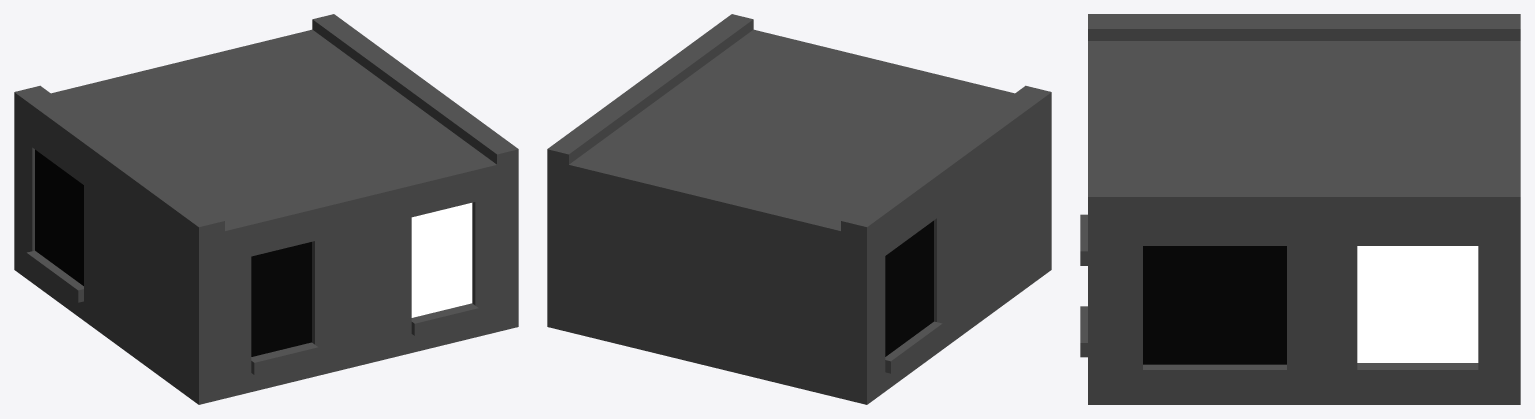
Rendered from immeuble4Milieu1.fbx.
3 renders of one model, left to right at view 1: azimuth 30°, elevation 25°; view 2: azimuth 150°, elevation 25°; view 3: azimuth 270°, elevation 25°, orthographic. The views are drawn at different scales.
Parts seen in each view (by area): view 1: Cube.030; view 2: Cube.030; view 3: Cube.030.
Boxes of the visible parts, x1,y1,x2,y2 form: Cube.030: (14, 14, 518, 404); Cube.030: (547, 14, 1051, 404); Cube.030: (1080, 14, 1520, 404).
Size of the model in its own units: 2061 by 1062 by 2036.
